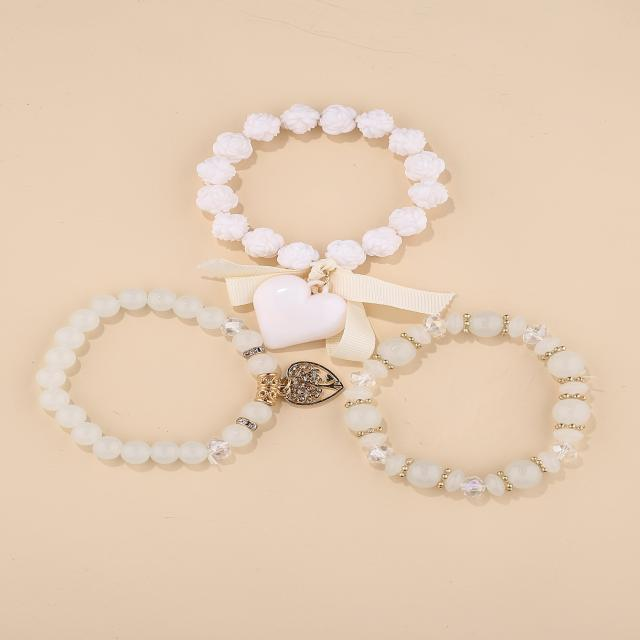bracelet: (328, 269, 640, 550), (172, 70, 487, 330), (42, 255, 331, 498)
